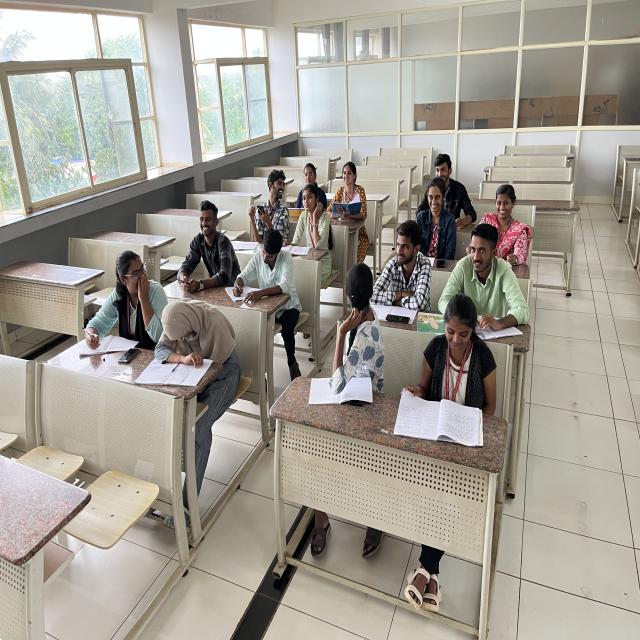Reading: (415, 294, 491, 425), (334, 162, 363, 219)
Sleeping: (155, 297, 227, 361)
Using Phone: (178, 200, 235, 292), (243, 170, 290, 224)
Writing: (78, 250, 160, 348), (225, 232, 292, 298)
